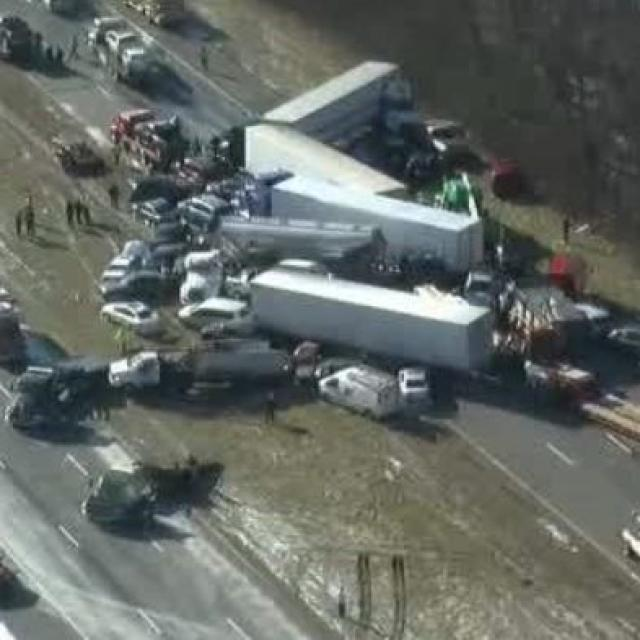traffic_incident: (160, 72, 516, 381)
